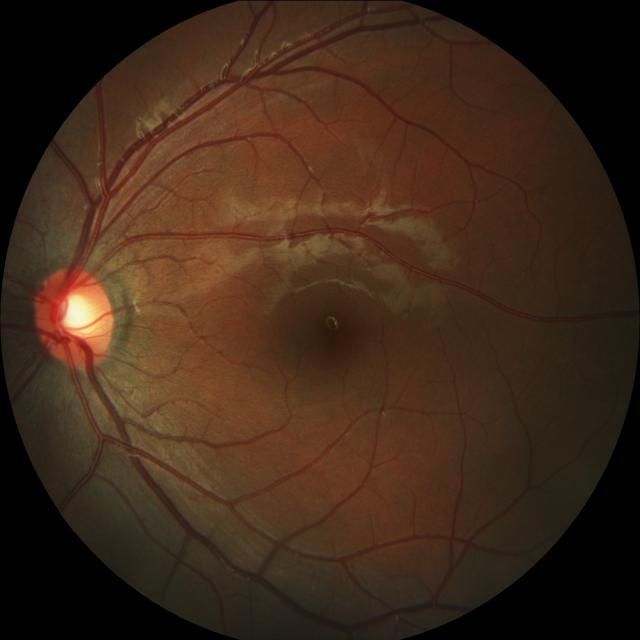OC: (59, 293, 96, 334)
OD: (35, 266, 117, 366)
